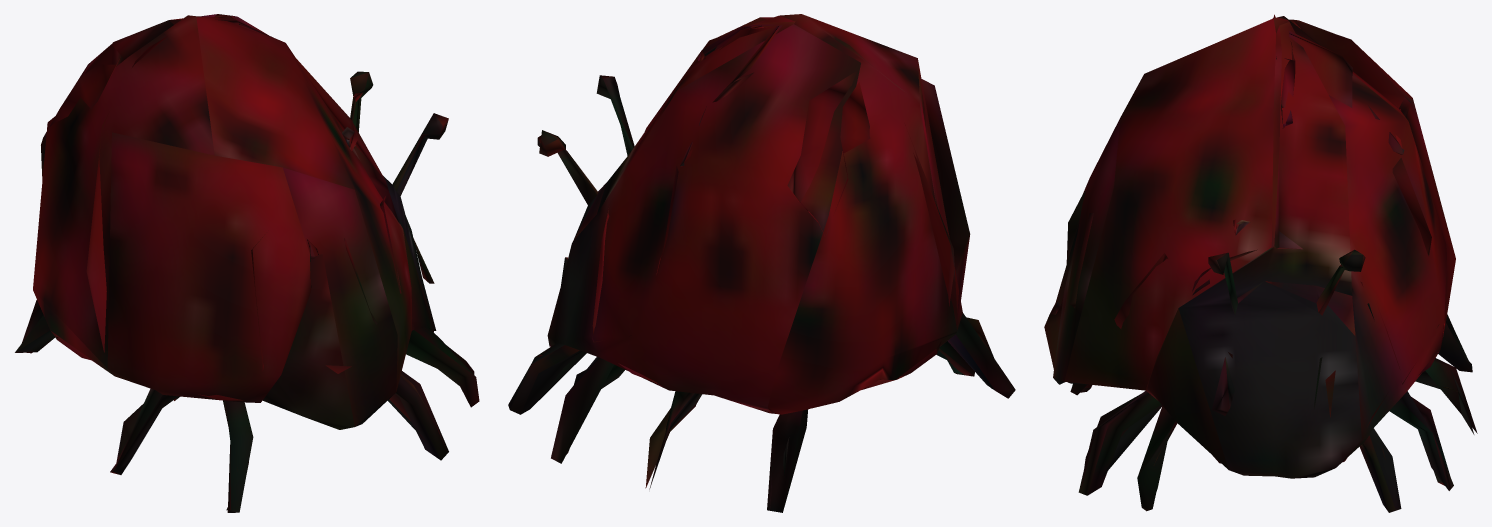
Rendered from ladybug.glb.
3 renders of one model, left to right at view 1: azimuth 30°, elevation 25°; view 2: azimuth 150°, elevation 25°; view 3: azimuth 270°, elevation 25°, orthographic. The views are drawn at different scales.
Bounding box in the file's own units: 0.9406 × 0.986 × 0.9583.
1 material, 1 textured.
